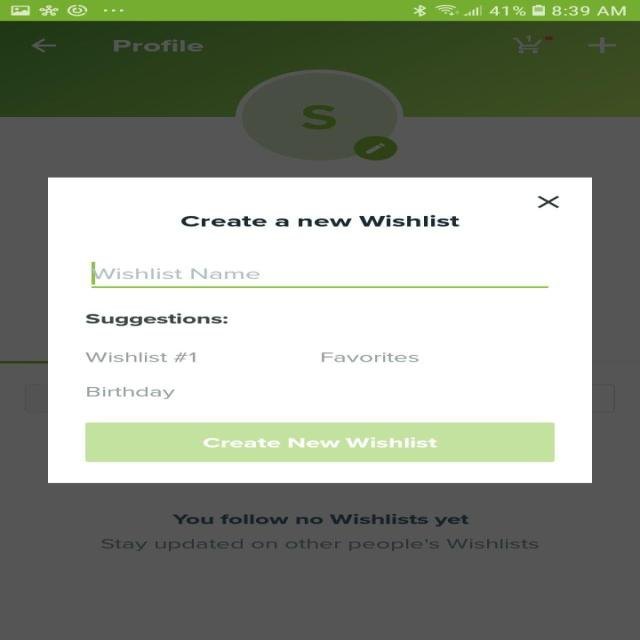EditText: (90, 261, 548, 288)
Icon: (511, 35, 541, 54), (586, 38, 616, 53), (30, 39, 57, 53), (537, 195, 559, 208)
Image: (240, 72, 398, 161)
Modal: (47, 177, 591, 483)
Text: (100, 538, 538, 551), (172, 513, 468, 526), (180, 214, 460, 227), (92, 268, 260, 280), (86, 312, 228, 326), (86, 386, 175, 399), (85, 352, 196, 362), (112, 40, 204, 52), (321, 352, 419, 362)
TextButton: (84, 422, 554, 462)
